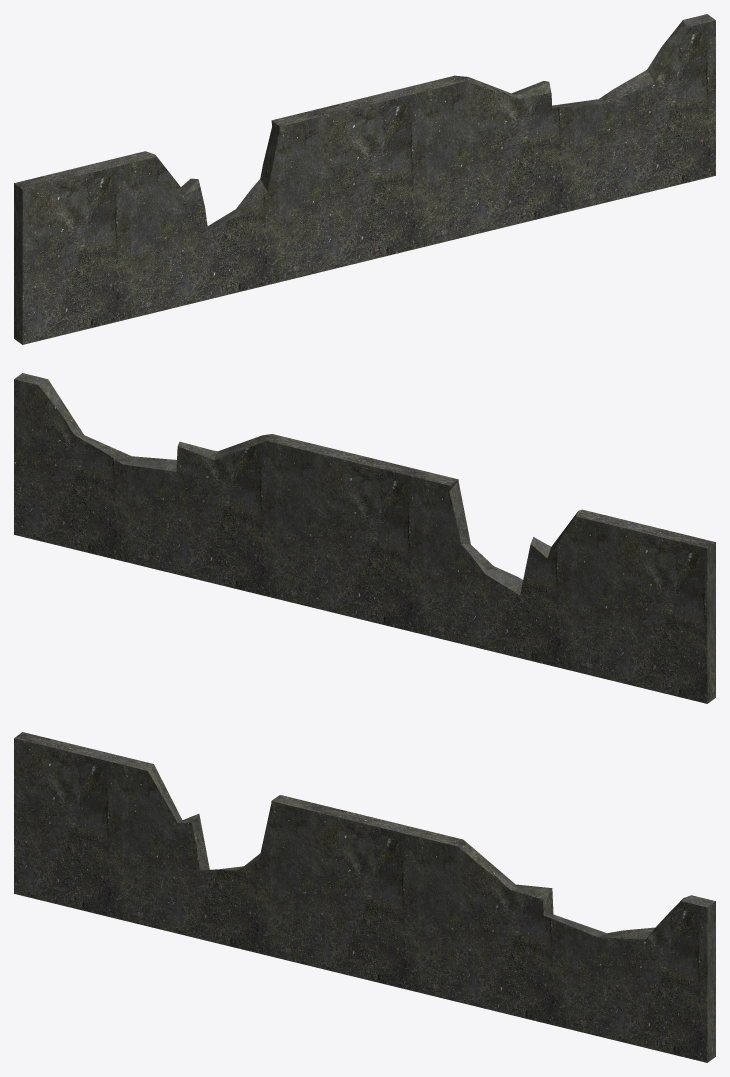
File: tuong 3.fbx
3 views of the same model, one above another, from view 1: azimuth 30°, elevation 25°; view 2: azimuth 150°, elevation 25°; view 3: azimuth 330°, elevation 25° (orthographic).
Parts seen in each view (by area): view 1: Cube.006; view 2: Cube.006; view 3: Cube.006.
Boxes of the visible parts, x1,y1,x2,y2 form: Cube.006: (14, 14, 715, 344); Cube.006: (14, 373, 715, 703); Cube.006: (14, 732, 715, 1062).
Bounding box in the file's own units: 1400 × 300 × 30.
1 material, 1 textured.
